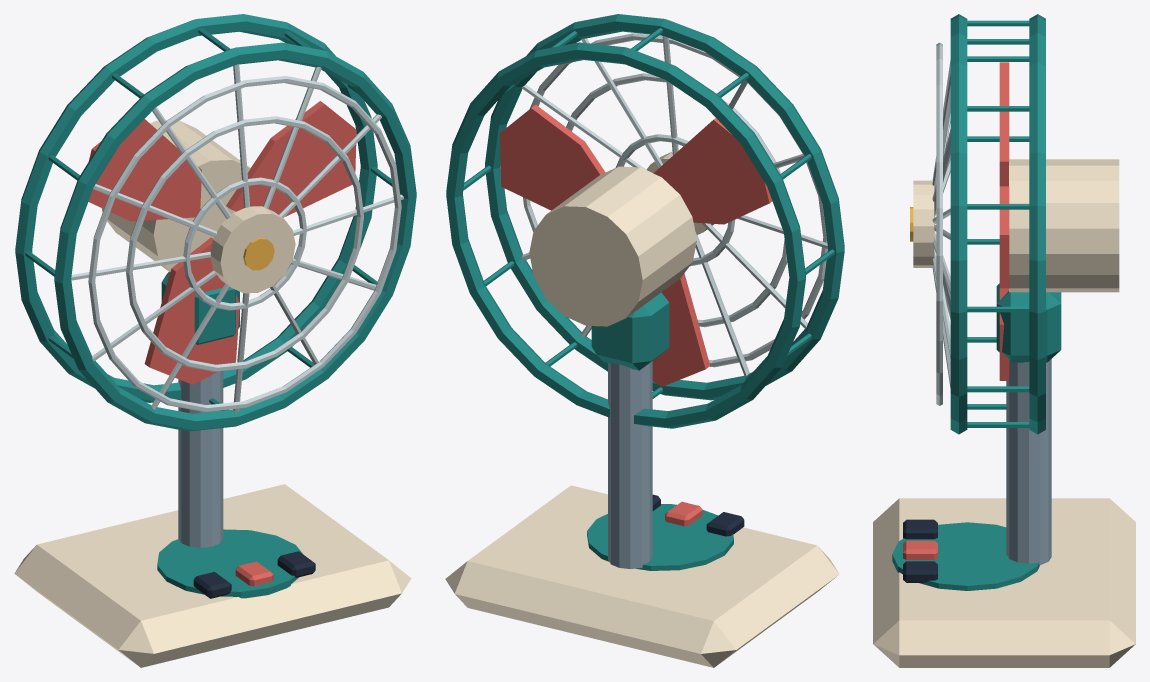
File: Desk_Fan.glb
3 renders of one model, left to right at view 1: azimuth 30°, elevation 25°; view 2: azimuth 150°, elevation 25°; view 3: azimuth 270°, elevation 25°, orthographic.
Visible parts, largest first — view 1: Desk_Fan; view 2: Desk_Fan; view 3: Desk_Fan.
Boxes of the visible parts, x1,y1,x2,y2 form: Desk_Fan: (14, 14, 416, 667); Desk_Fan: (445, 14, 844, 667); Desk_Fan: (873, 14, 1135, 667).
Size of the model in its own units: 2.41 by 3.62 by 1.5.
Materials: 1 (1 with a texture image).
